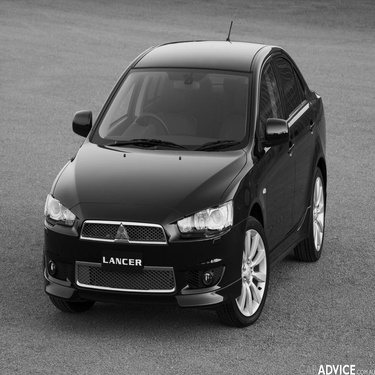car: (37, 27, 332, 327)
